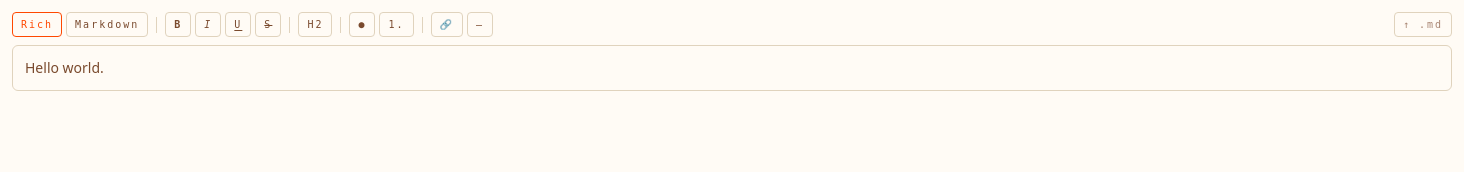
Scenario: <NotesEditor> rich-text toolbar (#126) › hides the formatting toolbar when in markdown mode
Step 1. Click the button with test id "notes-mode-markdown" → {"x": 107, "y": 24}, box [66,12,148,37]
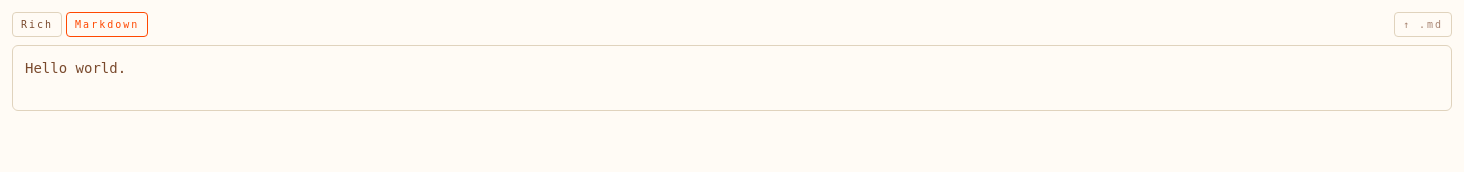
Expected: the button with test id "notes-mode-rich" is shown, [12,12,62,37]
Result: the button with test id "notes-toolbar-bold" is gone
Result: the button with test id "notes-toolbar-link" is gone
